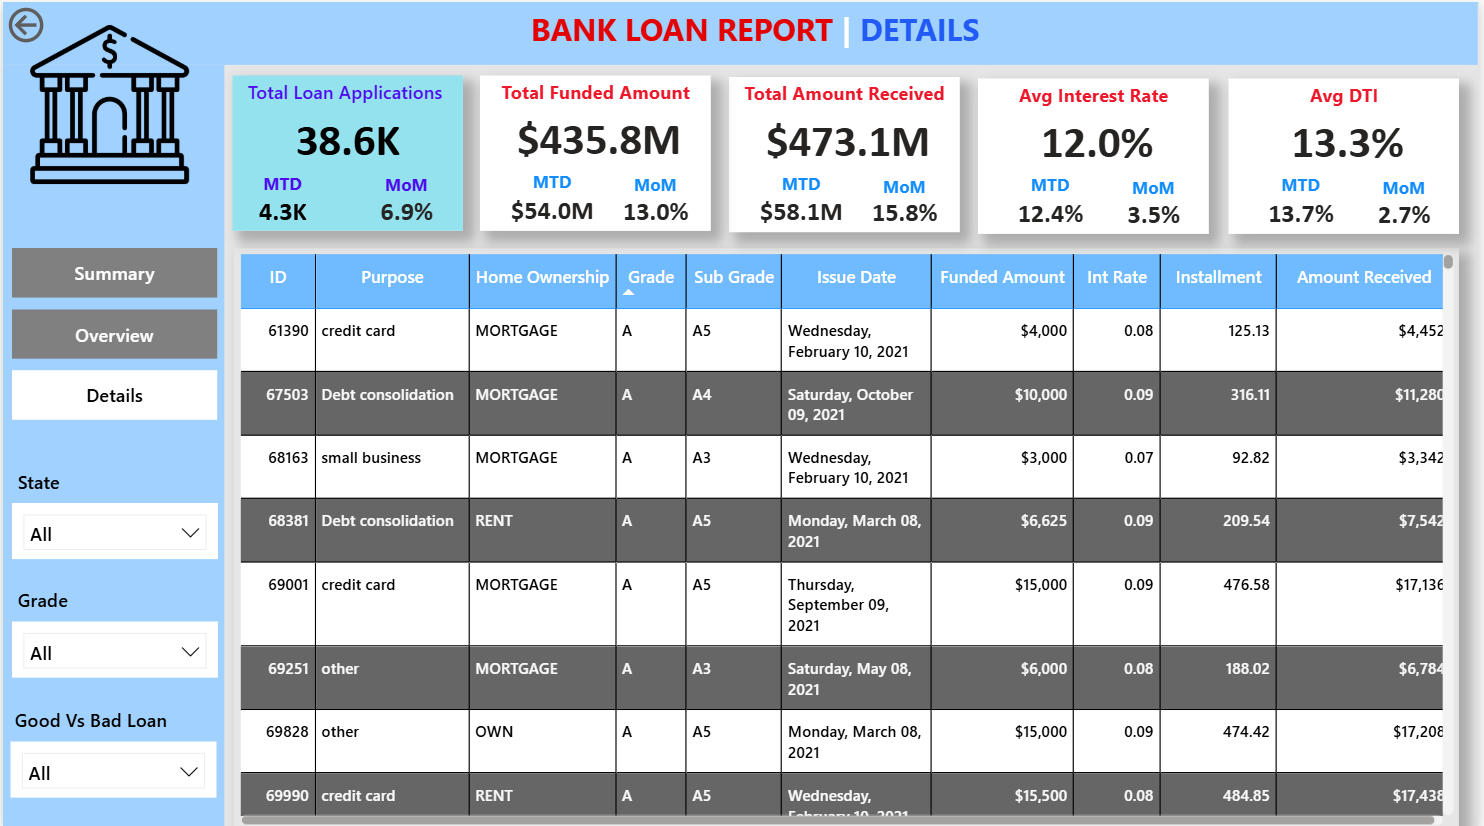

What the dashboard file says about the page in this screenshot:
{"tool":"powerbi","page":{"name":"Details","canvas":[1280,720],"ordinal":2},"visuals":[{"type":"textbox","box":[7.6,399.8,89.3,34.8],"z":0,"group":"g1"},{"type":"slicer","fields":{"Values":["bank_loans bank_loan_data.grade"]},"box":[7.6,537.6,178.7,48.5],"z":0,"group":"g7"},{"type":"slicer","fields":{"Values":["bank_loans bank_loan_data.Good Loan Vs Bad Loan"]},"box":[7.6,640.5,178.7,48.5],"z":0,"group":"g8"},{"type":"tableEx","fields":{"Values":["bank_loans bank_loan_data.id","bank_loans bank_loan_data.purpose","bank_loans bank_loan_data.home_ownership","bank_loans bank_loan_data.grade","bank_loans bank_loan_data.sub_grade","bank_loans bank_loan_data.issue_date","bank_loans bank_loan_data.Total_funded_amount","Sum(bank_loans bank_loan_data.int_rate)","Sum(bank_loans bank_loan_data.installment)","bank_loans bank_loan_data.Total Amount Recived"]},"box":[199.9,213.5,1063,505.7],"z":1000},{"type":"slicer","fields":{"Values":["bank_loans bank_loan_data.address_state"]},"box":[7.6,434.6,178.7,48.5],"z":1000,"group":"g1"},{"type":"textbox","box":[7.6,502.8,89.3,34.8],"z":1000,"group":"g7"},{"type":"textbox","box":[5.7,605.9,174.1,34.8],"z":1000,"group":"g8"},{"type":"shape","box":[0,0,1279.5,54.5],"z":2000},{"type":"group","id":"g1","title":"Group 4","box":[7.6,399.8,178.7,83.3],"z":2000,"group":"g7"},{"type":"shape","box":[0,54.5,192.3,664.7],"z":3000},{"type":"shape","box":[199.8,63.6,199.9,134.8],"z":3000,"group":"g2"},{"type":"shape","box":[413.4,63.6,199.9,134.8],"z":3000,"group":"g5"},{"type":"shape","box":[629.9,65.1,199.9,134.8],"z":3000,"group":"g3"},{"type":"shape","box":[846.4,66.6,199.9,134.8],"z":3000,"group":"g4"},{"type":"shape","box":[1063,66.6,199.9,134.8],"z":3000,"group":"g6"},{"type":"card","fields":{"Values":["bank_loans bank_loan_data.Total_funded_amount"]},"box":[414.1,93.1,202.9,45.4],"z":4000,"group":"g5"},{"type":"card","fields":{"Values":["bank_loans bank_loan_data.Total Amount Recived"]},"box":[630.6,94.6,202.9,45.4],"z":4000,"group":"g3"},{"type":"card","fields":{"Values":["bank_loans bank_loan_data.Total_applicants"]},"box":[232.9,96,131.7,42.4],"z":4000,"group":"g2"},{"type":"card","fields":{"Values":["bank_loans bank_loan_data.Avg interest rate"]},"box":[847.1,96.1,202.9,45.4],"z":4000,"group":"g4"},{"type":"card","fields":{"Values":["bank_loans bank_loan_data.Avg DTI"]},"box":[1063.7,96.1,202.9,45.4],"z":4000,"group":"g6"},{"type":"textbox","box":[452.7,0,457.3,54.5],"z":5000},{"type":"textbox","box":[419.5,60.6,187.8,33.3],"z":5000,"group":"g5"},{"type":"textbox","box":[203.9,61.2,187.8,33.3],"z":5000,"group":"g2"},{"type":"textbox","box":[636,62.1,187.8,33.3],"z":5000,"group":"g3"},{"type":"textbox","box":[852.5,63.6,187.8,33.3],"z":5000,"group":"g4"},{"type":"textbox","box":[1069.1,63.6,187.8,33.3],"z":5000,"group":"g6"},{"type":"group","id":"g2","title":"Group 1","box":[198.4,61.2,201.2,140.7],"z":6000},{"type":"card","title":"MTD","fields":{"Values":["bank_loans bank_loan_data.MTD funded amount"]},"box":[428.8,145.4,93.9,54.5],"z":6000,"group":"g5"},{"type":"card","title":"MTD","fields":{"Values":["bank_loans bank_loan_data.MTD Total Amount Received"]},"box":[645.3,146.9,93.9,54.5],"z":6000,"group":"g3"},{"type":"card","title":"MTD","fields":{"Values":["bank_loans bank_loan_data.MTD_ Loan Application"]},"box":[198.4,147.4,89.3,54.5],"z":6000,"group":"g2"},{"type":"card","title":"MTD","fields":{"Values":["bank_loans bank_loan_data.MTD Avg Interest Rate"]},"box":[861.8,148.4,93.9,54.5],"z":6000,"group":"g4"},{"type":"card","title":"MTD","fields":{"Values":["bank_loans bank_loan_data.MTD Avg Interest Rate"]},"box":[1078.4,148.4,93.9,54.5],"z":6000,"group":"g6"},{"type":"group","id":"g3","title":"Group 1","box":[629.9,62.1,202.9,139.3],"z":7000},{"type":"card","title":"MoM","fields":{"Values":["bank_loans bank_loan_data.MoM total funded amount"]},"box":[519.6,147.5,90.9,51.5],"z":7000,"group":"g5"},{"type":"card","title":"MoM","fields":{"Values":["bank_loans bank_loan_data.MoM applications"]},"box":[305.1,148.9,90.9,51.5],"z":7000,"group":"g2"},{"type":"card","title":"MoM","fields":{"Values":["bank_loans bank_loan_data.MoM Total Amount Received"]},"box":[736.1,149,90.9,51.5],"z":7000,"group":"g3"},{"type":"card","title":"MoM","fields":{"Values":["bank_loans bank_loan_data.MoM Avg Interest Rate"]},"box":[952.6,150.5,90.9,51.5],"z":7000,"group":"g4"},{"type":"card","title":"MoM","fields":{"Values":["bank_loans bank_loan_data.MoM Avg DTI"]},"box":[1169.2,150.5,90.9,51.5],"z":7000,"group":"g6"},{"type":"group","id":"g4","title":"Group 1","box":[846.4,63.6,202.9,139.3],"z":8000},{"type":"group","id":"g5","title":"Group 1","box":[413.4,60.6,202.9,139.3],"z":9000},{"type":"group","id":"g6","title":"Group 1","box":[1063,63.6,202.9,139.3],"z":10000},{"type":"group","id":"g7","title":"Group 5","box":[7.6,399.8,178.7,186.2],"z":11000},{"type":"group","id":"g8","title":"Group 6","box":[5.7,605.9,180.6,83],"z":12000},{"type":"actionButton","box":[0,0,100,40],"z":14000},{"type":"image","box":[18.2,3,148.4,172.6],"z":14001},{"type":"pageNavigator","box":[7.6,213.5,178.7,149.9],"z":14002}]}

Visuals, with their boxes in screenshot pixels (x1, y1, x2, y2), scaled from the page's 1280x720 canvas onto the 1484x826 screenshot:
textbox: detection(9, 459, 112, 499)
slicer - bank_loans bank_loan_data.grade: detection(9, 617, 216, 672)
slicer - bank_loans bank_loan_data.Good Loan Vs Bad Loan: detection(9, 735, 216, 790)
tableEx - bank_loans bank_loan_data.id x bank_loans bank_loan_data.purpose: detection(232, 245, 1464, 825)
slicer - bank_loans bank_loan_data.address_state: detection(9, 499, 216, 554)
textbox: detection(9, 577, 112, 617)
textbox: detection(7, 695, 208, 735)
shape: detection(0, 0, 1483, 63)
"Group 4" group: detection(9, 459, 216, 554)
shape: detection(0, 63, 223, 825)
shape: detection(232, 73, 463, 228)
shape: detection(479, 73, 711, 228)
shape: detection(730, 75, 962, 229)
shape: detection(981, 76, 1213, 231)
shape: detection(1232, 76, 1464, 231)
card - bank_loans bank_loan_data.Total_funded_amount: detection(480, 107, 715, 159)
card - bank_loans bank_loan_data.Total Amount Recived: detection(731, 109, 966, 161)
card - bank_loans bank_loan_data.Total_applicants: detection(270, 110, 423, 159)
card - bank_loans bank_loan_data.Avg interest rate: detection(982, 110, 1217, 162)
card - bank_loans bank_loan_data.Avg DTI: detection(1233, 110, 1468, 162)
textbox: detection(525, 0, 1055, 63)
textbox: detection(486, 70, 704, 108)
textbox: detection(236, 70, 454, 108)
textbox: detection(737, 71, 955, 109)
textbox: detection(988, 73, 1206, 111)
textbox: detection(1239, 73, 1457, 111)
"Group 1" group: detection(230, 70, 463, 232)
"MTD" card: detection(497, 167, 606, 229)
"MTD" card: detection(748, 169, 857, 231)
"MTD" card: detection(230, 169, 334, 232)
"MTD" card: detection(999, 170, 1108, 233)
"MTD" card: detection(1250, 170, 1359, 233)
"Group 1" group: detection(730, 71, 966, 231)
"MoM" card: detection(602, 169, 708, 228)
"MoM" card: detection(354, 171, 459, 230)
"MoM" card: detection(853, 171, 959, 230)
"MoM" card: detection(1104, 173, 1210, 232)
"MoM" card: detection(1356, 173, 1461, 232)
"Group 1" group: detection(981, 73, 1217, 233)
"Group 1" group: detection(479, 70, 715, 229)
"Group 1" group: detection(1232, 73, 1468, 233)
"Group 5" group: detection(9, 459, 216, 672)
"Group 6" group: detection(7, 695, 216, 790)
actionButton: detection(0, 0, 116, 46)
image: detection(21, 3, 193, 201)
pageNavigator: detection(9, 245, 216, 417)
